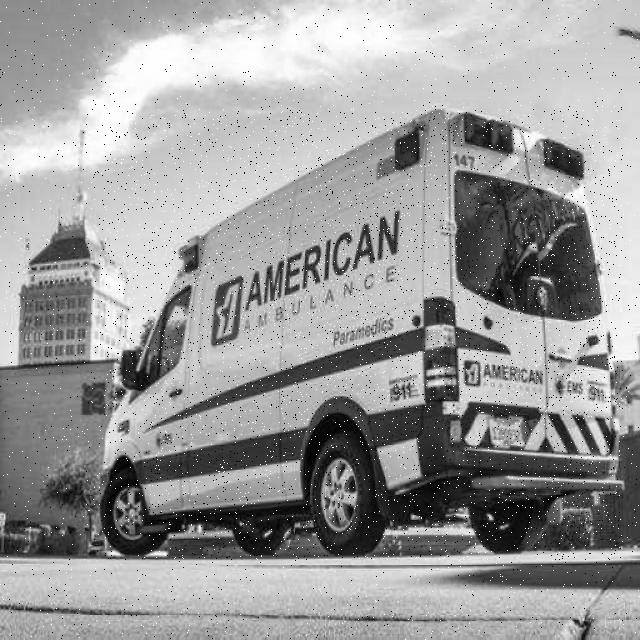Ambulance: (99, 109, 622, 560)
